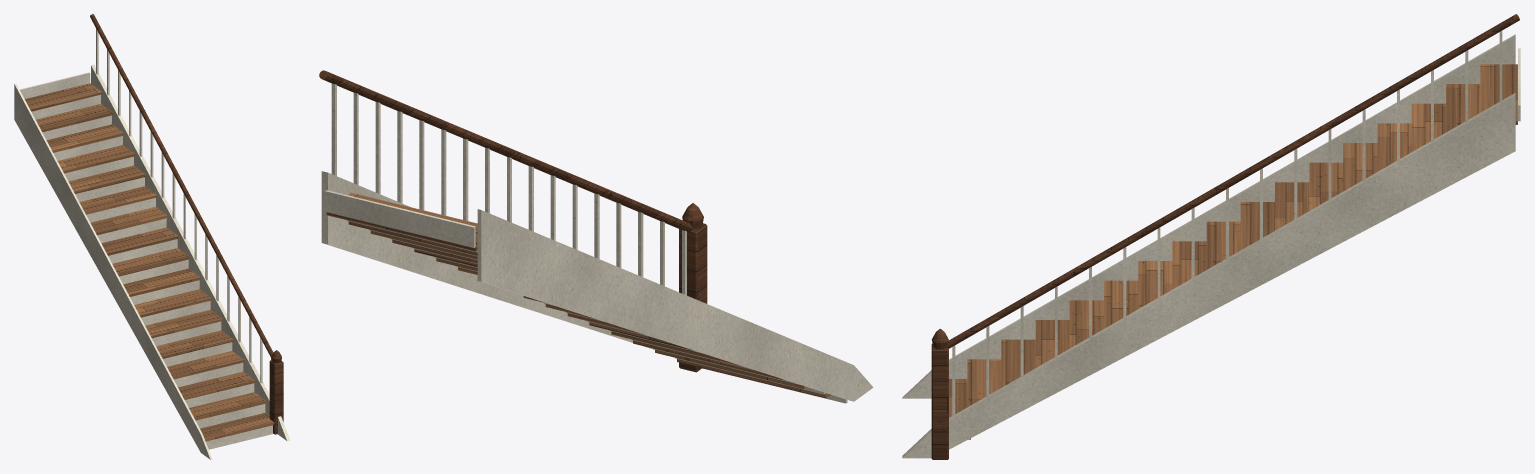
File: stair.glb
3 renders of one model, left to right at view 1: azimuth 30°, elevation 25°; view 2: azimuth 150°, elevation 25°; view 3: azimuth 270°, elevation 25°, orthographic. The views are drawn at different scales.
Visible parts, largest first — view 1: stair_trim, stair_floor, stair_wood; view 2: stair_trim, stair_wood, stair_floor; view 3: stair_trim, stair_floor, stair_wood.
Part boxes in pixels (bbox=[...]): stair_trim: bbox=[14, 28, 290, 459]; stair_floor: bbox=[24, 83, 274, 441]; stair_wood: bbox=[90, 14, 283, 434]; stair_trim: bbox=[321, 83, 873, 403]; stair_wood: bbox=[319, 70, 707, 372]; stair_floor: bbox=[326, 192, 830, 398]; stair_trim: bbox=[902, 30, 1520, 458]; stair_floor: bbox=[949, 64, 1517, 439]; stair_wood: bbox=[931, 14, 1519, 459].
Size of the model in its own units: 1.23 by 4 by 5.06.
3 materials, 3 textured.
